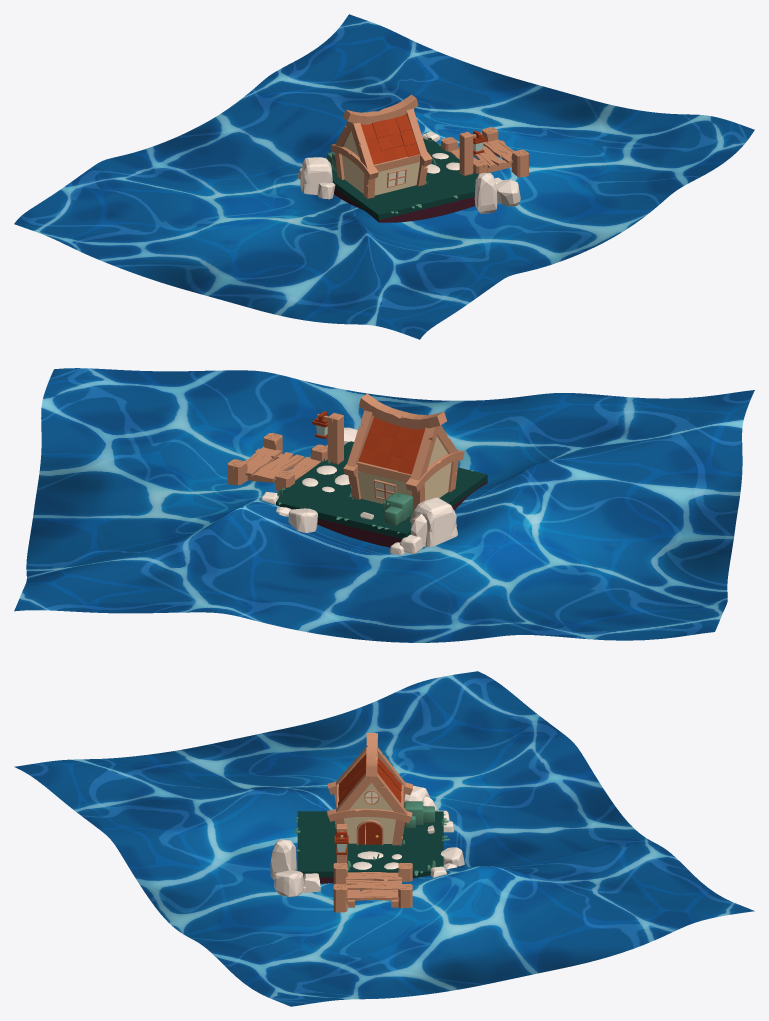
The model's file is casa4.glb.
The picture shows the model from 3 angles, top to bottom: view 1: azimuth 30°, elevation 25°; view 2: azimuth 150°, elevation 25°; view 3: azimuth 270°, elevation 25°; orthographic projection. The views are drawn at different scales.
Visible parts, largest first — view 1: Sea, Base, PAREDES, Cubo.056, Cubo.004, Cubo.103, Cubo.046, Cubo.102; view 2: Sea, Base, PAREDES, Cubo.056, Cubo.004, Cubo.046, Cubo.006, Cubo.041, Cubo.026, Cubo.005, Cubo.055, Cubo.038 (+3 smaller); view 3: Sea, Base, PAREDES, Cubo.103, Cubo.001, Cubo.102, puerta, Cubo.038.
Boxes of the visible parts, bbox=[...] form: Sea: bbox=[14, 14, 754, 339]; Base: bbox=[331, 138, 478, 222]; PAREDES: bbox=[342, 130, 419, 195]; Cubo.056: bbox=[300, 157, 333, 194]; Cubo.004: bbox=[343, 94, 418, 124]; Cubo.103: bbox=[474, 172, 497, 213]; Cubo.046: bbox=[459, 131, 473, 175]; Cubo.102: bbox=[496, 179, 520, 206]; Sea: bbox=[14, 368, 754, 642]; Base: bbox=[276, 441, 487, 547]; PAREDES: bbox=[357, 436, 451, 503]; Cubo.056: bbox=[410, 497, 457, 547]; Cubo.004: bbox=[359, 393, 446, 429]; Cubo.046: bbox=[327, 413, 343, 464]; Cubo.006: bbox=[410, 426, 439, 480]; Cubo.041: bbox=[255, 452, 304, 481]; Cubo.026: bbox=[405, 450, 464, 492]; Cubo.005: bbox=[347, 410, 373, 466]; Cubo.055: bbox=[288, 508, 317, 532]; Cubo.038: bbox=[244, 446, 281, 476]; Sea: bbox=[14, 671, 754, 1006]; Base: bbox=[297, 811, 443, 883]; PAREDES: bbox=[344, 783, 395, 843]; Cubo.103: bbox=[270, 839, 296, 879]; Cubo.001: bbox=[327, 808, 412, 823]; Cubo.102: bbox=[274, 870, 303, 896]; puerta: bbox=[356, 820, 383, 845]; Cubo.038: bbox=[346, 889, 399, 900].
Size of the model in its own units: 70.84 by 10.61 by 66.1.
Materials: 13 (1 with a texture image).
